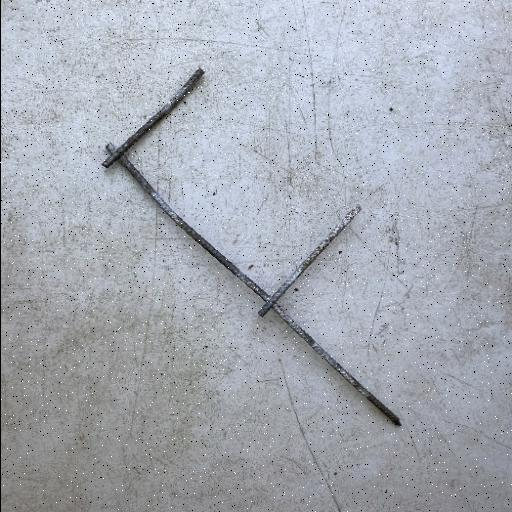Metal: (98, 63, 406, 429)
